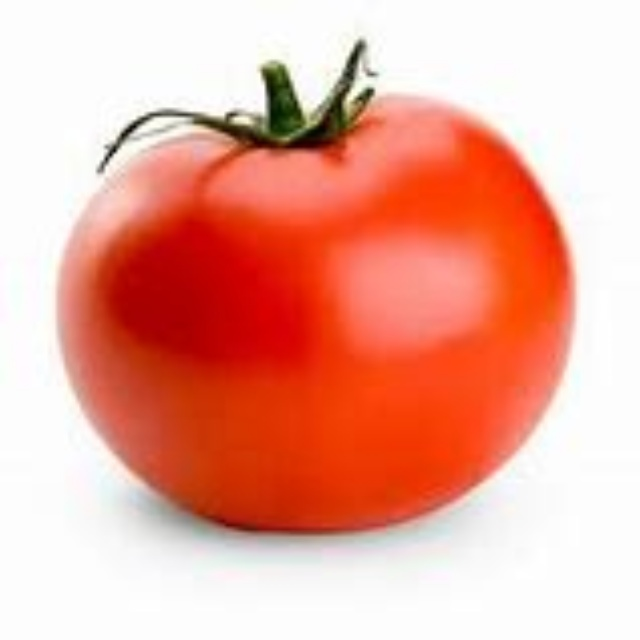tomato: (54, 93, 577, 537)
